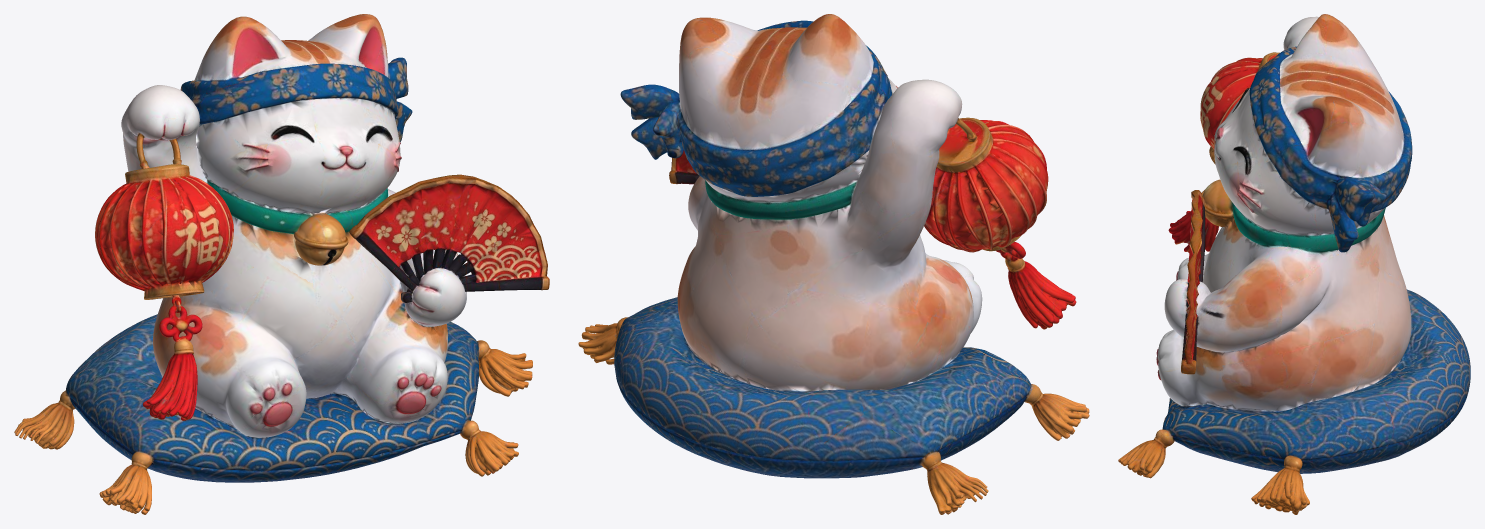
File: lucky-lantern-cat-mobile.glb
The picture shows the model from 3 angles, left to right: view 1: azimuth 30°, elevation 25°; view 2: azimuth 150°, elevation 25°; view 3: azimuth 270°, elevation 25°; orthographic projection. The views are drawn at different scales.
Parts seen in each view (by area): view 1: mesh_node; view 2: mesh_node; view 3: mesh_node.
Boxes of the visible parts, x1,y1,x2,y2 form: mesh_node: (14, 14, 549, 514); mesh_node: (578, 14, 1089, 514); mesh_node: (1118, 14, 1470, 514).
Bounding box in the file's own units: 0.227 × 0.2 × 0.1627.
1 material, 1 textured.
